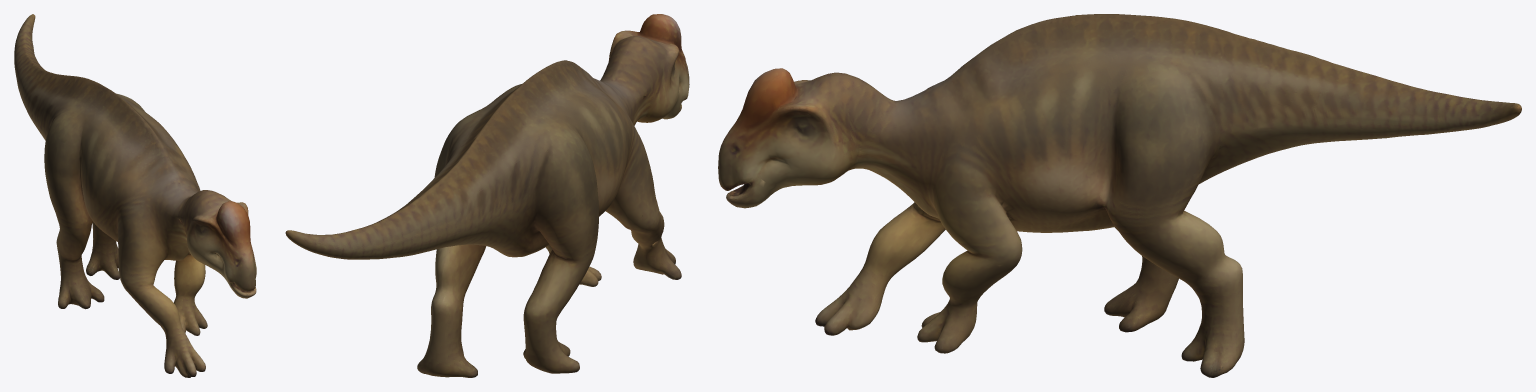
3 renders of one model, left to right at view 1: azimuth 30°, elevation 25°; view 2: azimuth 150°, elevation 25°; view 3: azimuth 270°, elevation 25°, orthographic. The views are drawn at different scales.
Parts seen in each view (by area): view 1: world; view 2: world; view 3: world.
Part boxes in pixels (<box>): world: <box>14,14,256,377</box>; world: <box>285,14,689,377</box>; world: <box>718,14,1521,377</box>.
Bounding box in the file's own units: 1.95 × 3.6 × 8.
Materials: 1 (1 with a texture image).
